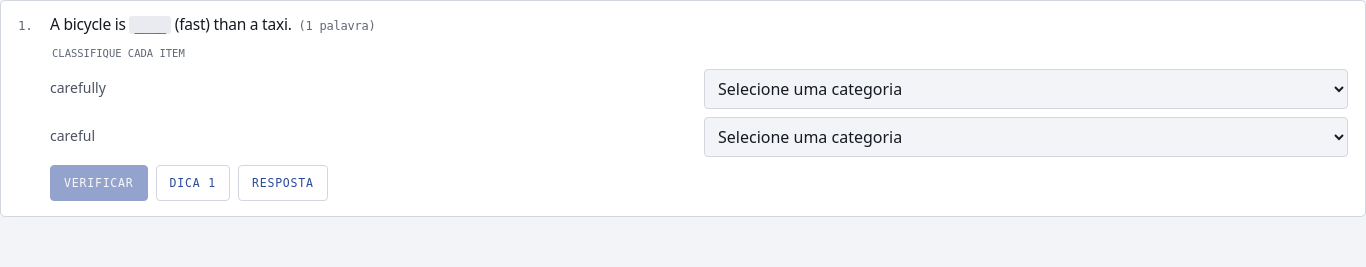
Test: ExerciseCard › preserva a classificação estruturada na fila offline
Select "adverb" in the dropdown labelled "carefully" at (1026, 89), box [704,69,1348,109]
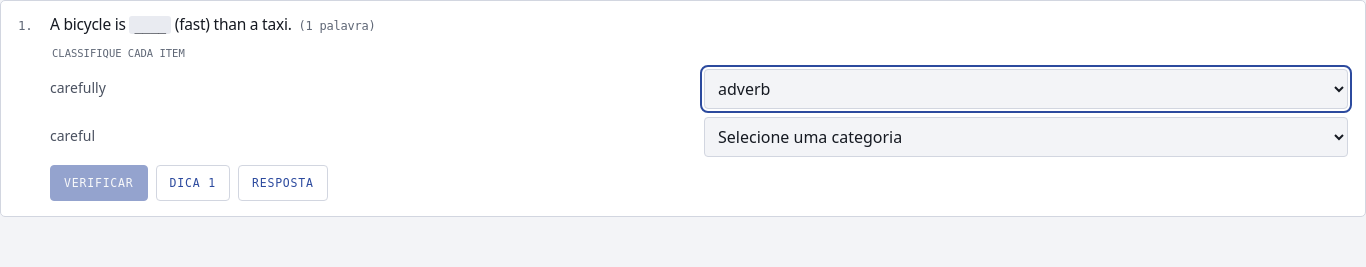
Select "adjective" in the dropdown labelled "careful" at (1026, 137), box [704,117,1348,157]
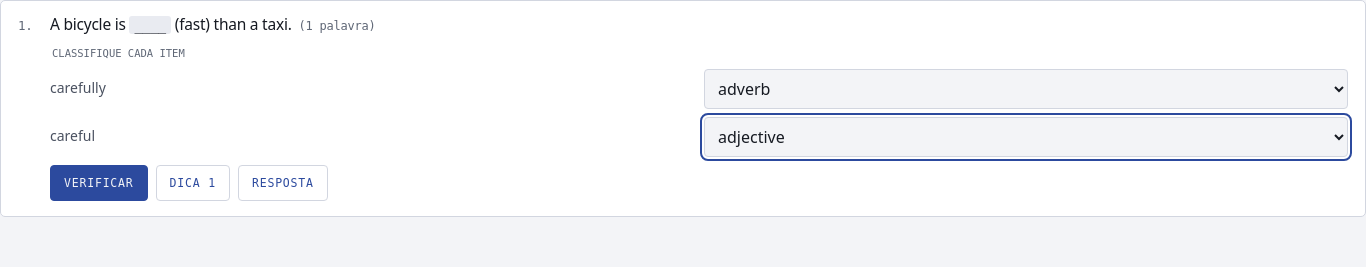
Click the button "Verificar" at (99, 183), box [50,165,148,201]
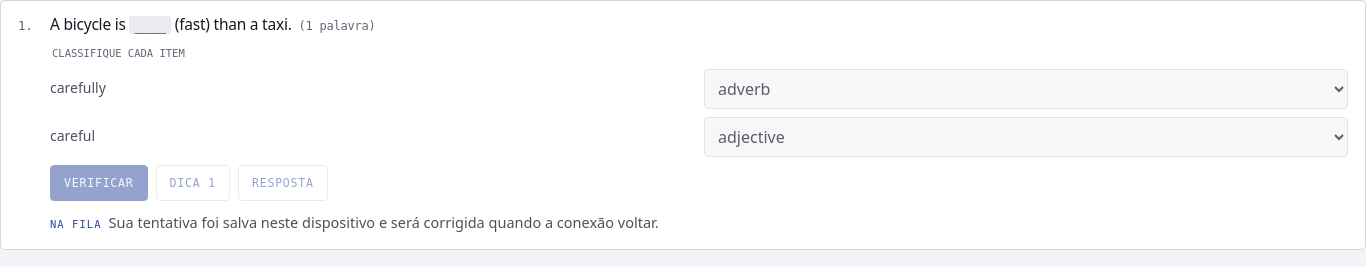
expect the text "Na fila" is shown: met, box [50,218,102,230]
